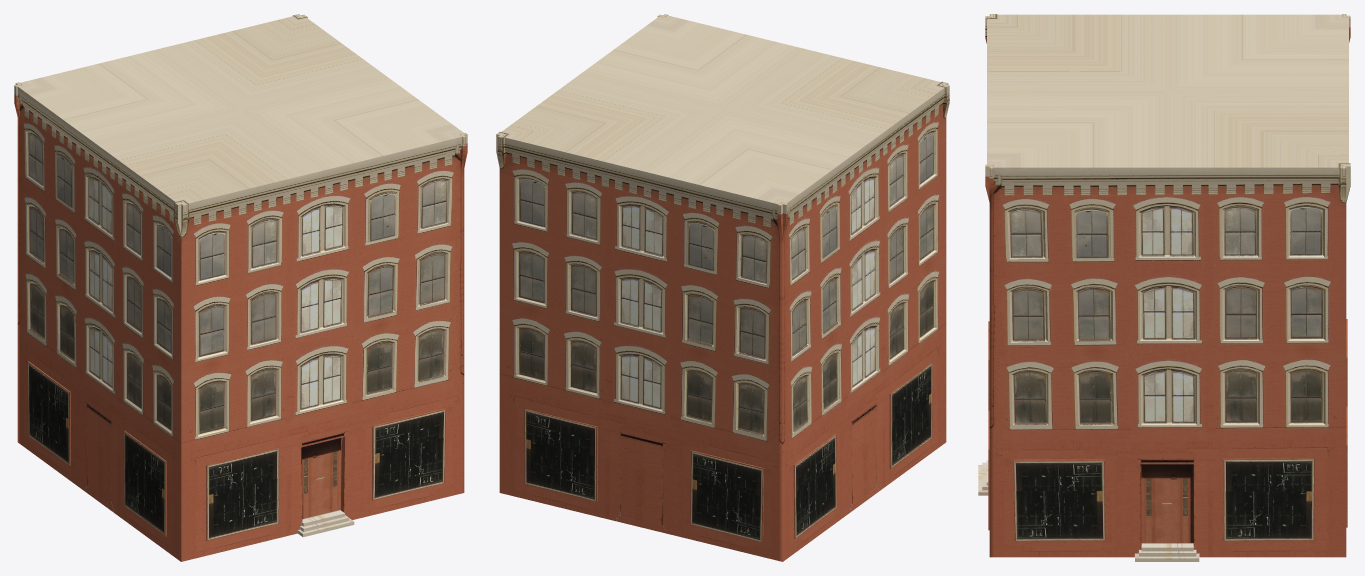
The model's file is building6.obj.
3 views of the same model, side by side, from view 1: azimuth 30°, elevation 25°; view 2: azimuth 150°, elevation 25°; view 3: azimuth 270°, elevation 25° (orthographic). The views are drawn at different scales.
Parts seen in each view (by area): view 1: Plane01; view 2: Plane01; view 3: Plane01.
Part boxes in pixels (<box>): Plane01: <box>14,14,467,561</box>; Plane01: <box>496,14,949,561</box>; Plane01: <box>978,14,1350,561</box>.
Size of the model in its own units: 2662 by 3078 by 2662.
Materials: 1 (1 with a texture image).
